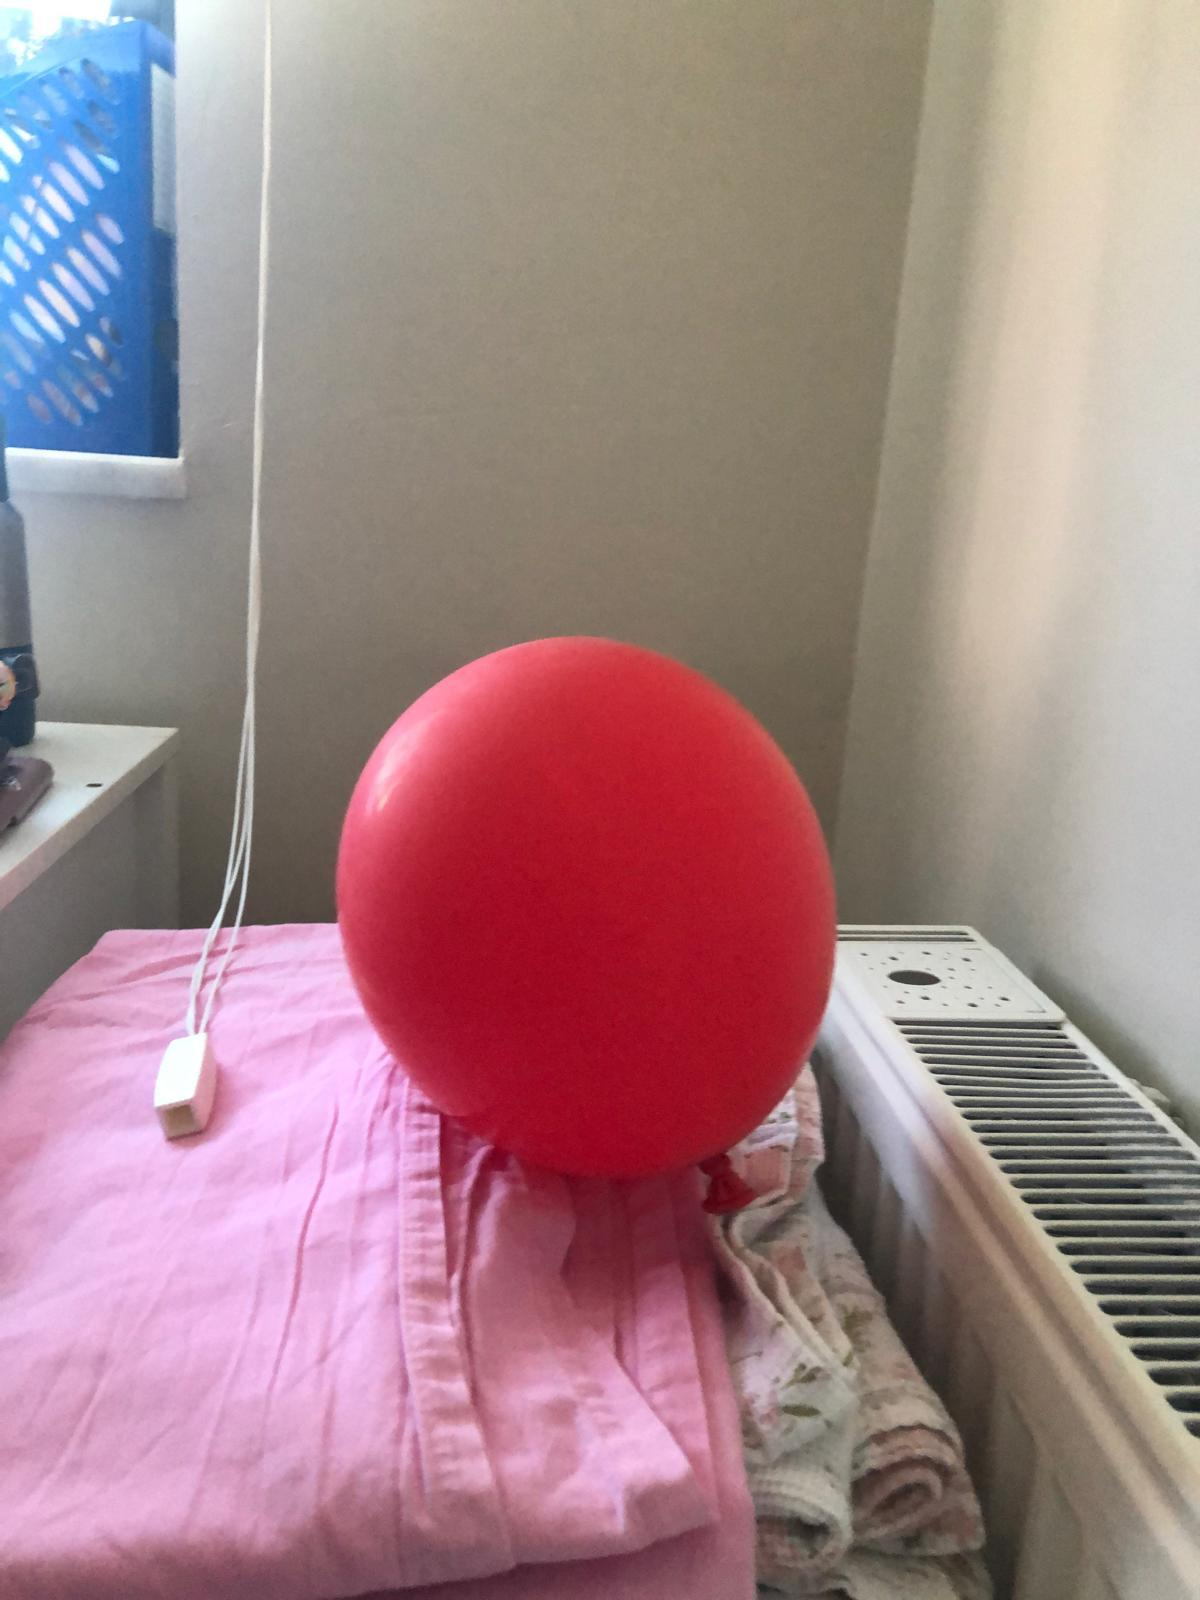red: (334, 627, 834, 1169)
